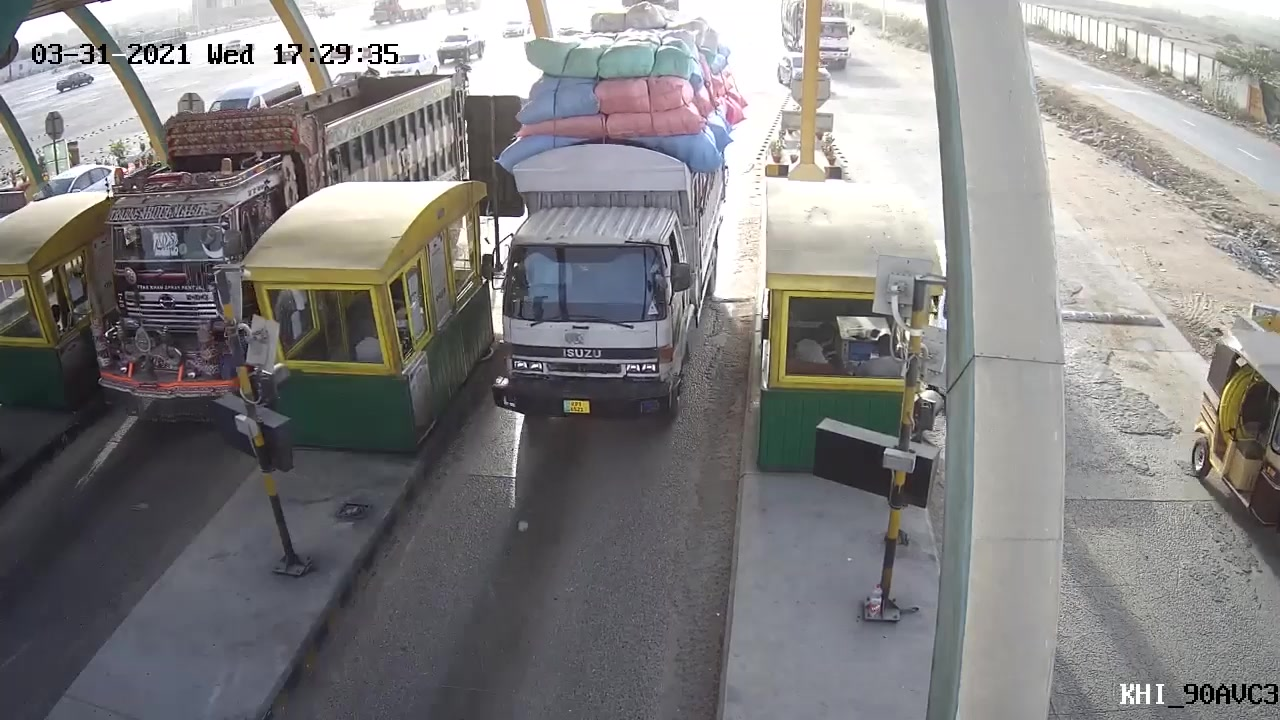F3: (478, 12, 738, 427)
